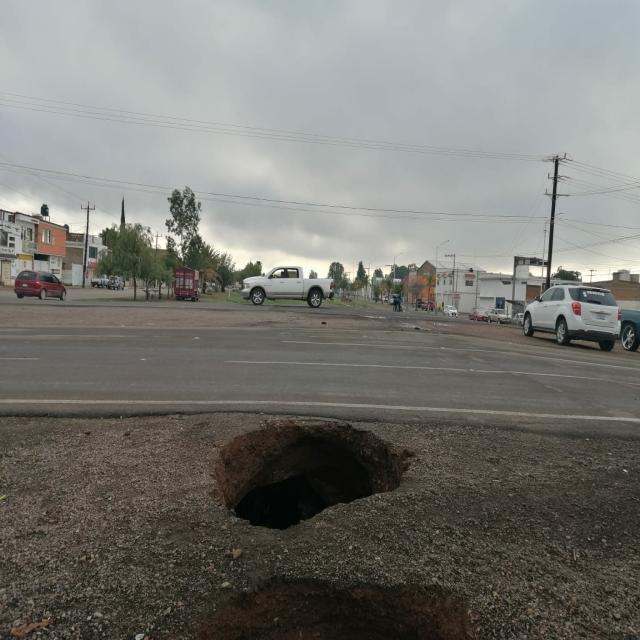Pothole: (173, 390, 421, 558)
